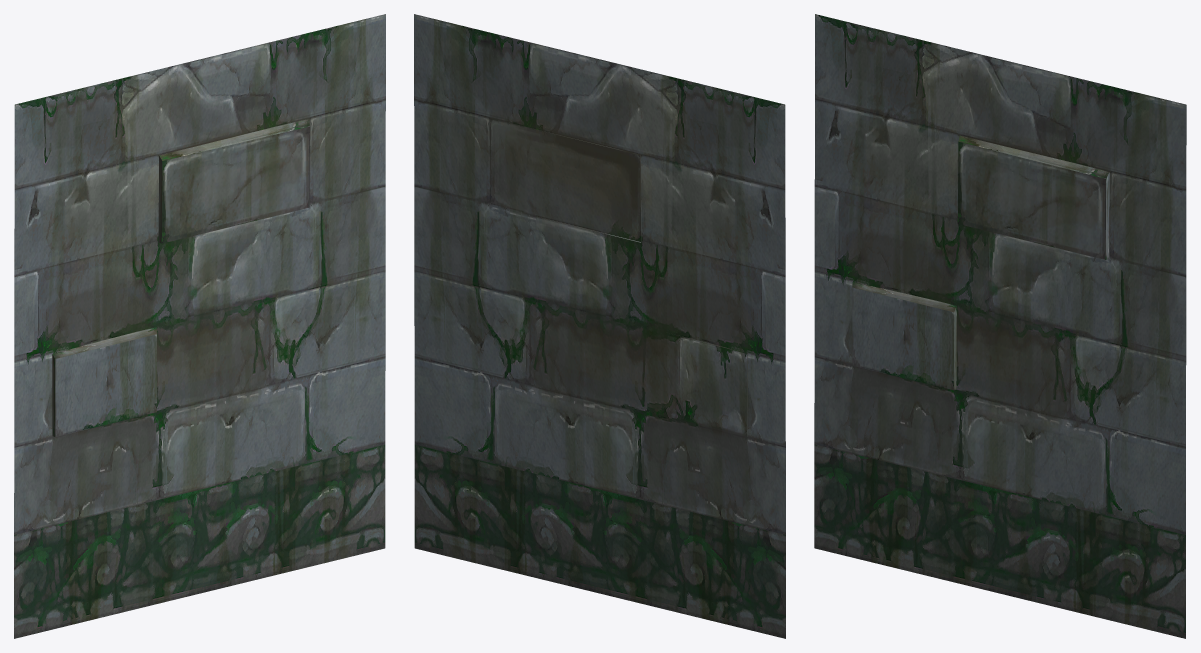
The model's file is stemple_wall_straight_10.fbx.
The picture shows the model from 3 angles, left to right: view 1: azimuth 30°, elevation 25°; view 2: azimuth 150°, elevation 25°; view 3: azimuth 330°, elevation 25°; orthographic projection.
Visible parts, largest first — view 1: stemple_wall_straight_10-0; view 2: stemple_wall_straight_10-0; view 3: stemple_wall_straight_10-0.
Boxes of the visible parts, x1,y1,x2,y2 form: stemple_wall_straight_10-0: [14, 14, 385, 638]; stemple_wall_straight_10-0: [414, 14, 785, 638]; stemple_wall_straight_10-0: [814, 14, 1186, 638].
Bounding box in the file's own units: 4.01 × 5.5 × 0.055.
